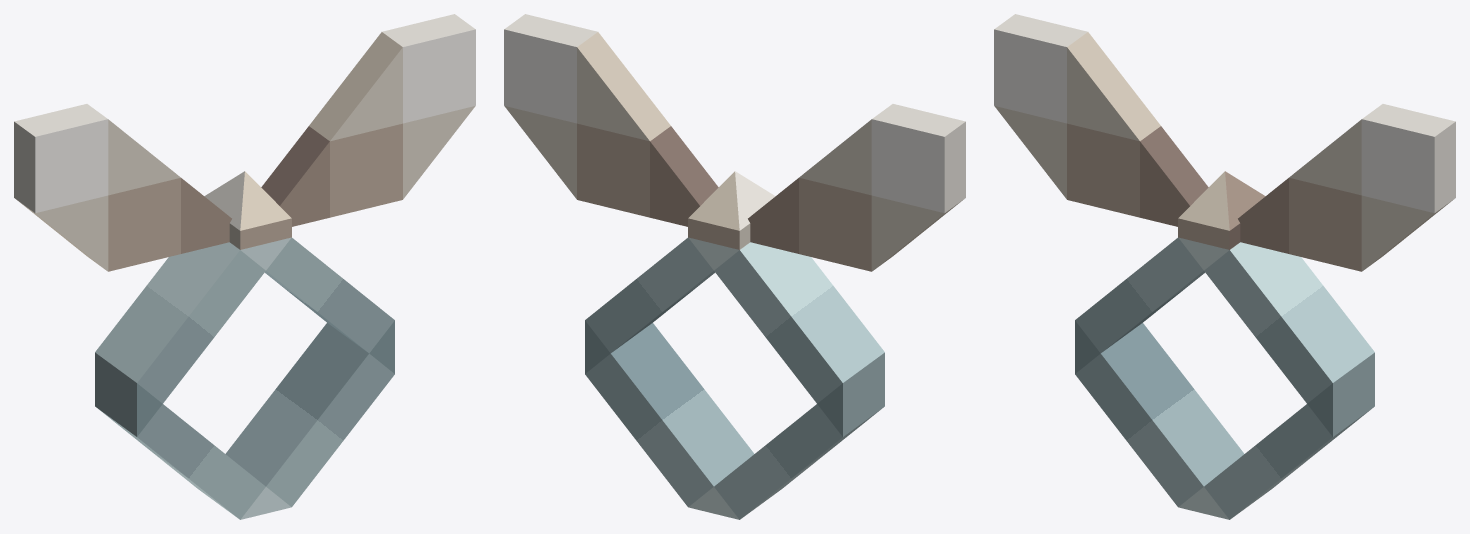
File: ring_skies.obj
The picture shows the model from 3 angles, left to right: view 1: azimuth 30°, elevation 25°; view 2: azimuth 150°, elevation 25°; view 3: azimuth 330°, elevation 25°; orthographic projection.
Visible parts, largest first — view 1: RING_DECO_SKIES_Plane.007, RING_BASE_SILVER_Cube.036; view 2: RING_DECO_SKIES_Plane.007, RING_BASE_SILVER_Cube.036; view 3: RING_DECO_SKIES_Plane.007, RING_BASE_SILVER_Cube.036.
Boxes of the visible parts, bbox=[...] form: RING_DECO_SKIES_Plane.007: bbox=[14, 14, 475, 271]; RING_BASE_SILVER_Cube.036: bbox=[95, 237, 394, 519]; RING_DECO_SKIES_Plane.007: bbox=[504, 14, 965, 271]; RING_BASE_SILVER_Cube.036: bbox=[585, 237, 884, 519]; RING_DECO_SKIES_Plane.007: bbox=[994, 14, 1455, 271]; RING_BASE_SILVER_Cube.036: bbox=[1075, 237, 1374, 519].
Bounding box in the file's own units: 0.3774 × 0.3461 × 0.0625.
